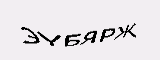Г: (117, 22, 136, 49)
Д: (95, 23, 116, 56)
К: (57, 28, 81, 60)
Н: (24, 24, 54, 60)
Т: (81, 27, 100, 57)
